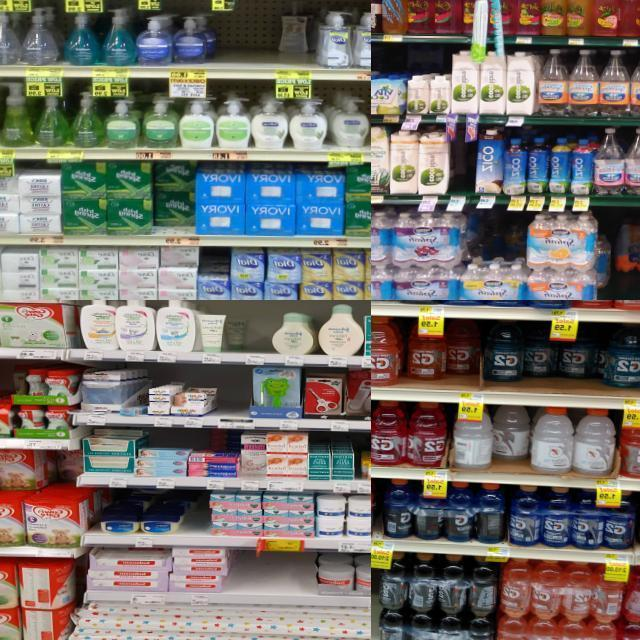Imprecise: (402, 319, 610, 396), (0, 447, 89, 548), (267, 0, 332, 71), (149, 160, 196, 233), (490, 402, 536, 475), (605, 223, 640, 311), (221, 306, 253, 353)
